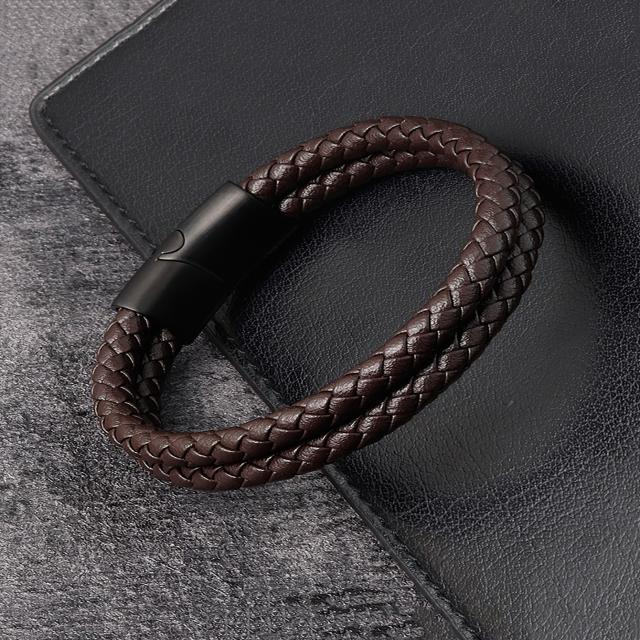bracelet: (54, 83, 640, 510)
